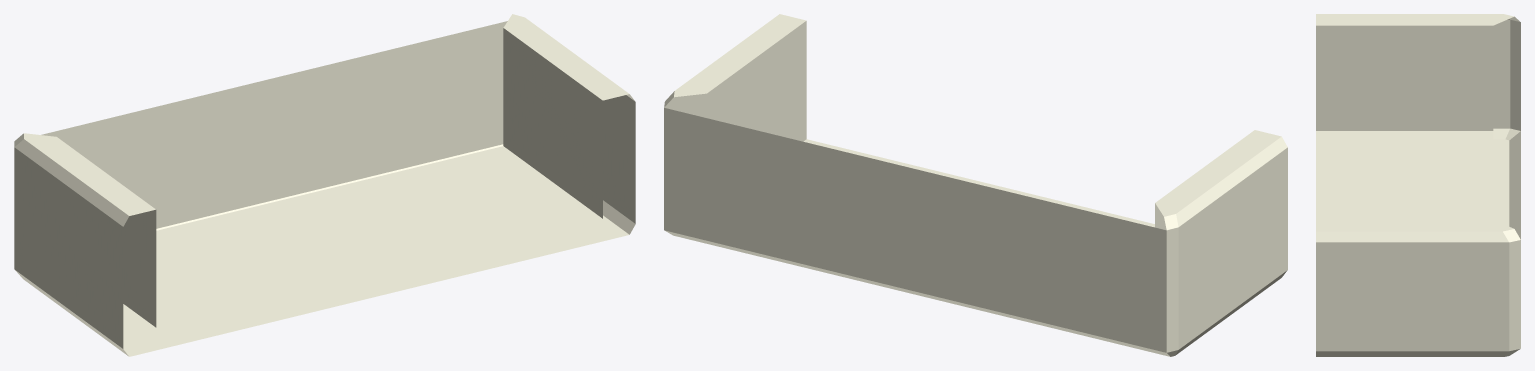
File: BalconAjusté.fbx
3 renders of one model, left to right at view 1: azimuth 30°, elevation 25°; view 2: azimuth 150°, elevation 25°; view 3: azimuth 270°, elevation 25°, orthographic. The views are drawn at different scales.
Visible parts, largest first — view 1: RampeBalconMairieArriere; view 2: RampeBalconMairieArriere; view 3: RampeBalconMairieArriere.
Part boxes in pixels (x1,y1,x2,y2): RampeBalconMairieArriere: (14,14,635,356); RampeBalconMairieArriere: (664,14,1287,356); RampeBalconMairieArriere: (1316,14,1520,356).
Size of the model in its own units: 698 by 183 by 271.
